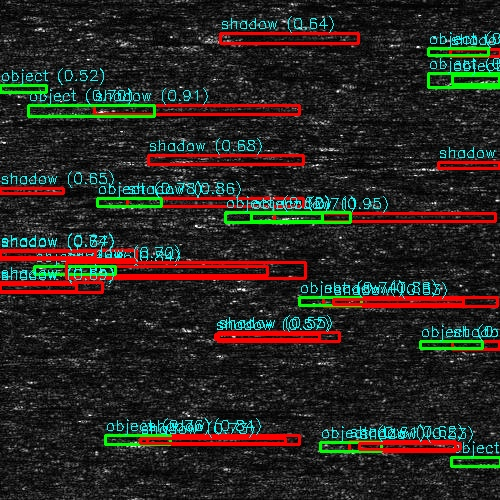rock: (263, 298, 388, 309), (23, 265, 96, 276), (240, 213, 303, 222), (180, 31, 221, 40), (93, 157, 156, 162), (66, 107, 119, 112), (310, 117, 363, 122), (424, 343, 477, 348), (93, 200, 146, 205), (207, 334, 238, 339), (466, 75, 477, 84), (429, 52, 460, 55), (125, 494, 136, 500), (293, 495, 304, 500)
shadow: (60, 265, 359, 276), (272, 213, 500, 222), (326, 298, 500, 309), (131, 494, 436, 500), (93, 107, 302, 112), (125, 157, 330, 162), (120, 200, 310, 205), (201, 31, 275, 40), (299, 495, 426, 500), (223, 334, 346, 339), (0, 91, 52, 100), (337, 117, 411, 122), (0, 284, 40, 293), (0, 253, 104, 256), (472, 75, 500, 84), (451, 343, 500, 348), (445, 52, 500, 55)
